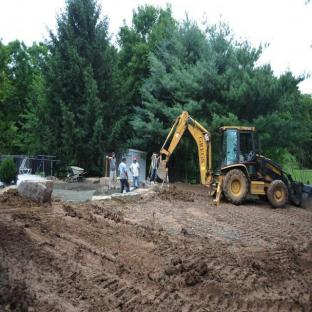ExcavationMachinery: (148, 115, 298, 216)
